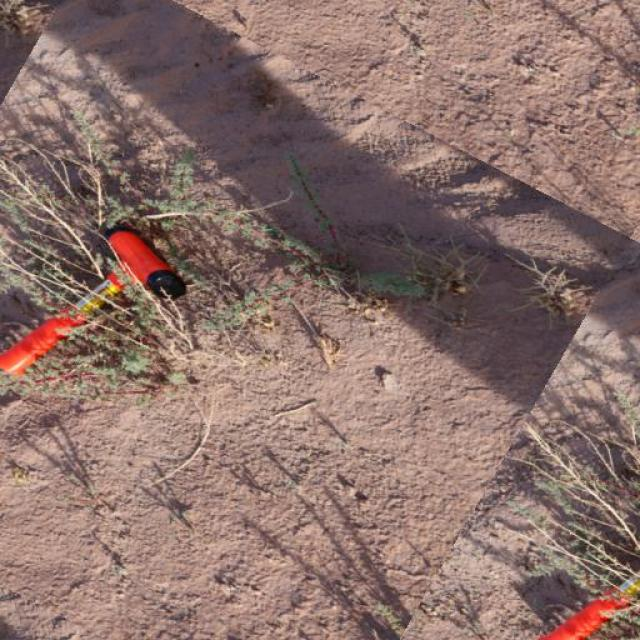mallet: (0, 219, 186, 379)
